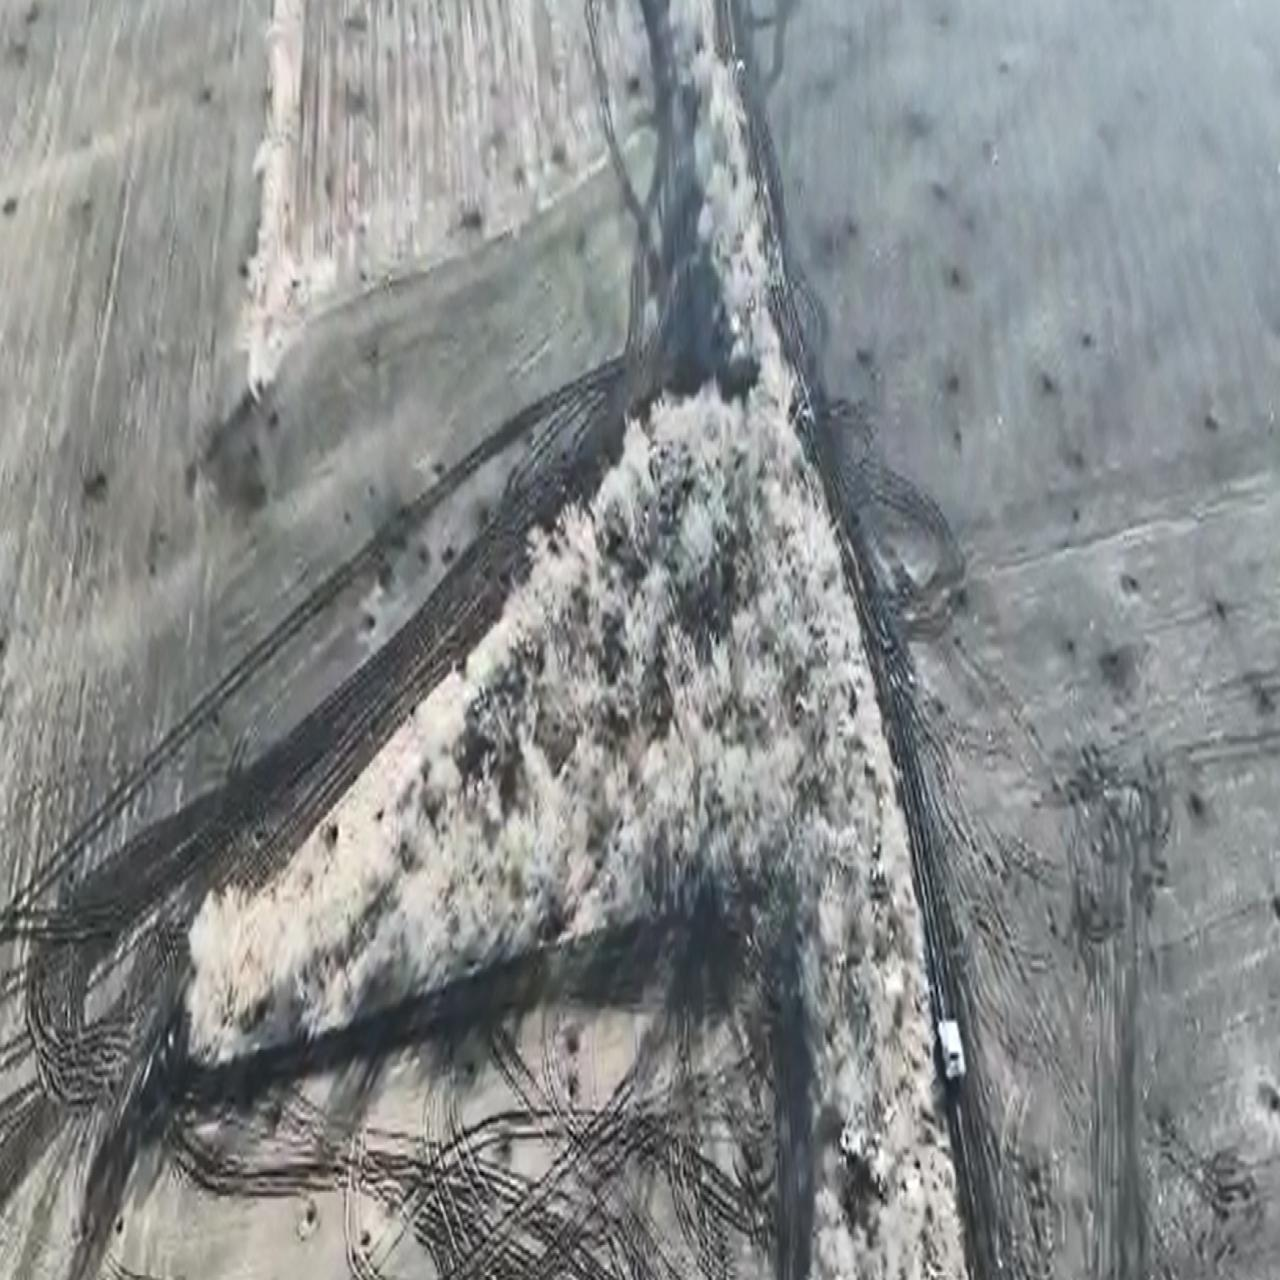MIL_Veh: (922, 992, 968, 1088)
